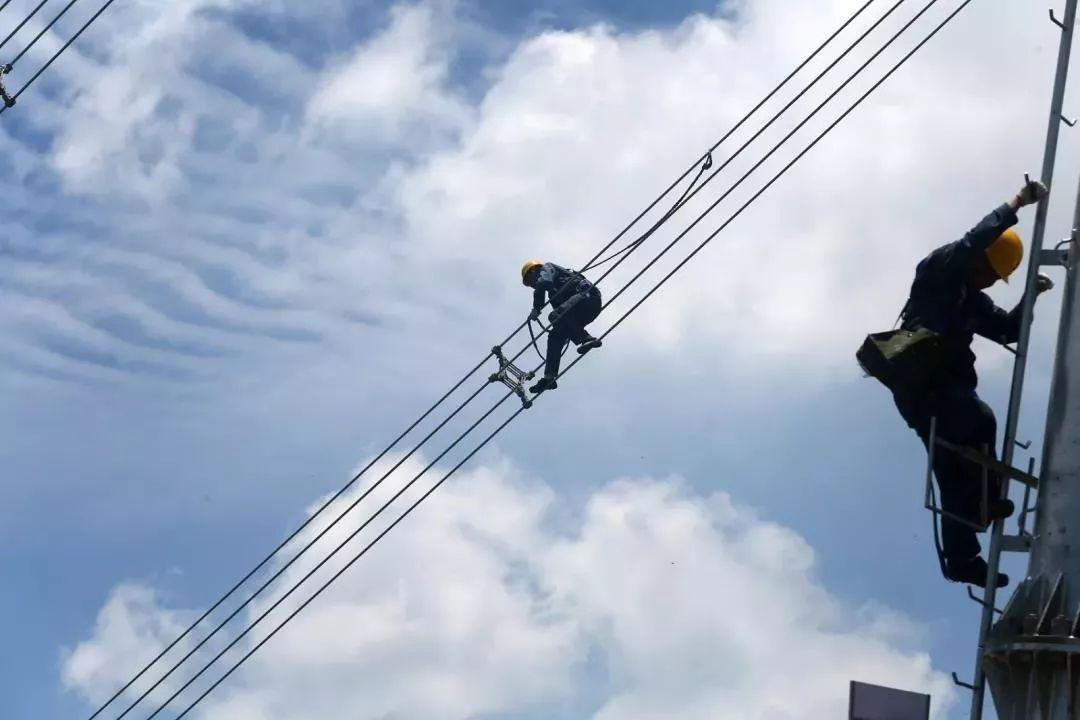yellow: (973, 224, 1023, 287), (518, 256, 541, 286)
